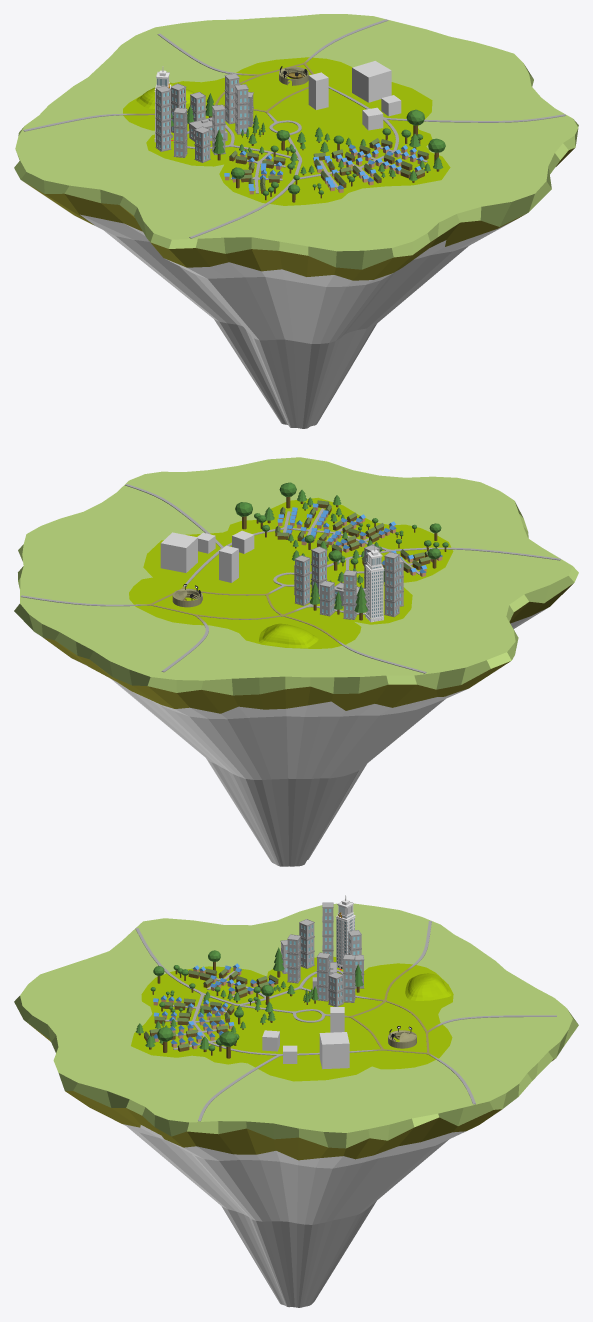
Rendered from Website Town.fbx.
The picture shows the model from 3 angles, top to bottom: view 1: azimuth 30°, elevation 25°; view 2: azimuth 150°, elevation 25°; view 3: azimuth 270°, elevation 25°; orthographic projection. The views are drawn at different scales.
Visible parts, largest first — view 1: Plane, Plane_Residential, Plane_Recreation, Plane_Education, Roads, Plane_Work, Lund University, Skyscraper.011, Gymnasium, Skyscraper.010, Skyscraper.001, Skyscraper.003 (+2 smaller); view 2: Plane, Plane_Recreation, Plane_Residential, Plane_Education, Roads, Lund University, Hill, Skyscraper.011, Plane_Work, WhiteSkyscraper_Part1, Skyscraper.003, Gymnasium (+2 smaller); view 3: Plane, Plane_Recreation, Plane_Residential, Plane_Education, Roads, Lund University, Plane_Work, Hill, Skyscraper.010, Skyscraper.009, Skyscraper.011, Skyscraper.003 (+2 smaller).
Boxes of the visible parts, bbox=[...] form: Plane: bbox=[14, 14, 578, 428]; Plane_Residential: bbox=[219, 130, 450, 205]; Plane_Recreation: bbox=[123, 57, 352, 136]; Plane_Education: bbox=[288, 79, 432, 143]; Roads: bbox=[23, 19, 565, 238]; Plane_Work: bbox=[146, 118, 276, 166]; Lund University: bbox=[352, 61, 391, 102]; Skyscraper.011: bbox=[155, 85, 171, 151]; Gymnasium: bbox=[308, 72, 328, 109]; Skyscraper.010: bbox=[173, 107, 187, 157]; Skyscraper.001: bbox=[234, 84, 248, 134]; Skyscraper.003: bbox=[224, 73, 239, 124]; Plane: bbox=[14, 457, 578, 866]; Plane_Recreation: bbox=[129, 570, 361, 648]; Plane_Residential: bbox=[228, 497, 453, 586]; Plane_Education: bbox=[143, 530, 292, 589]; Roads: bbox=[20, 484, 560, 673]; Lund University: bbox=[160, 532, 197, 572]; Hill: bbox=[259, 623, 318, 648]; Skyscraper.011: bbox=[384, 552, 399, 616]; Plane_Work: bbox=[286, 579, 412, 624]; WhiteSkyscraper_Part1: bbox=[366, 568, 383, 618]; Skyscraper.003: bbox=[294, 555, 310, 605]; Gymnasium: bbox=[219, 545, 238, 582]; Plane: bbox=[14, 903, 578, 1307]; Plane_Recreation: bbox=[288, 963, 453, 1069]; Plane_Residential: bbox=[131, 966, 300, 1064]; Plane_Education: bbox=[240, 1020, 375, 1081]; Roads: bbox=[135, 921, 556, 1121]; Lund University: bbox=[319, 1032, 349, 1069]; Plane_Work: bbox=[267, 956, 365, 1008]; Hill: bbox=[405, 973, 451, 1000]; Skyscraper.010: bbox=[299, 919, 314, 968]; Skyscraper.009: bbox=[287, 934, 300, 983]; Skyscraper.011: bbox=[322, 902, 333, 961]; Skyscraper.003: bbox=[343, 954, 355, 1002].
Bounding box in the file's own units: 236 × 169 × 242.
26 materials, 1 textured.
